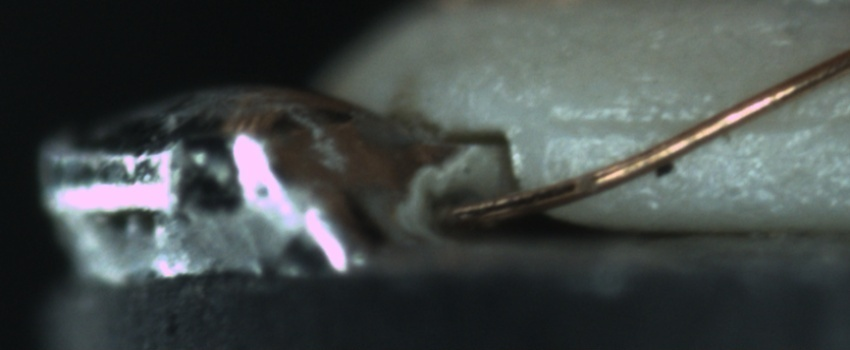DL: (541, 93, 850, 155)
